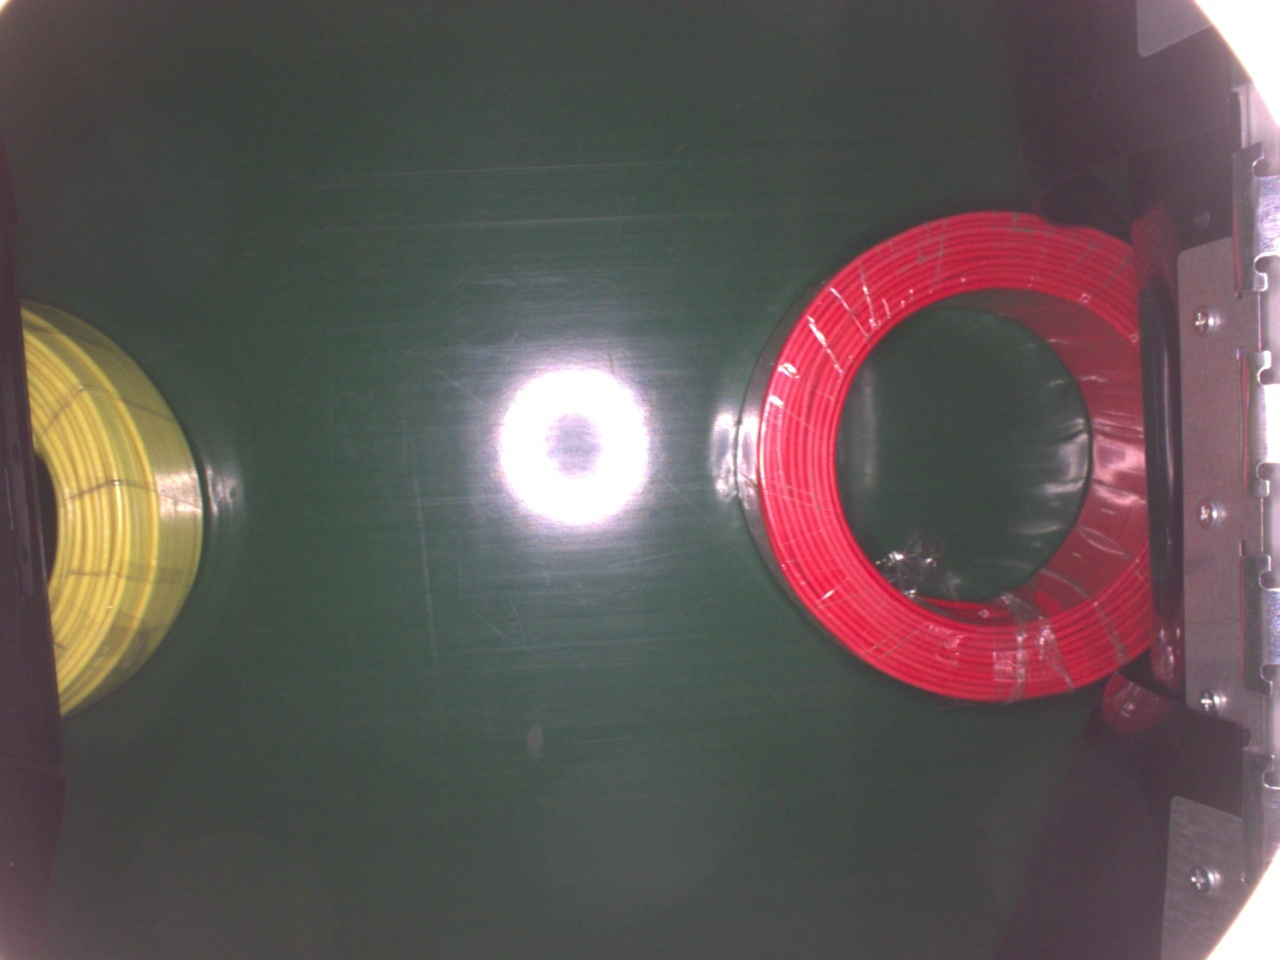red: (731, 210, 1160, 705)
yellow: (20, 295, 207, 727)
